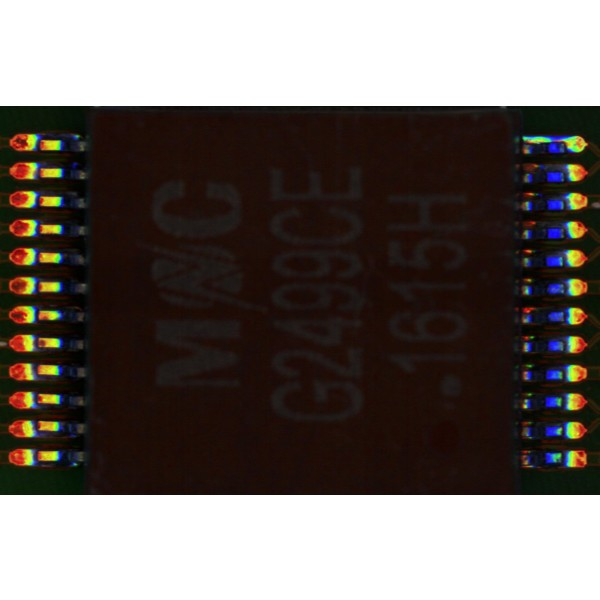Bad_qiaojiao: (524, 134, 569, 144)
